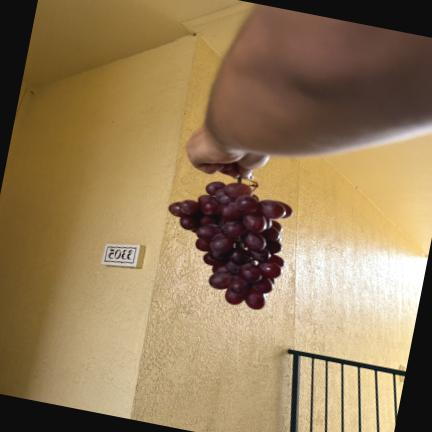grape_cluster: (169, 182, 293, 310)
